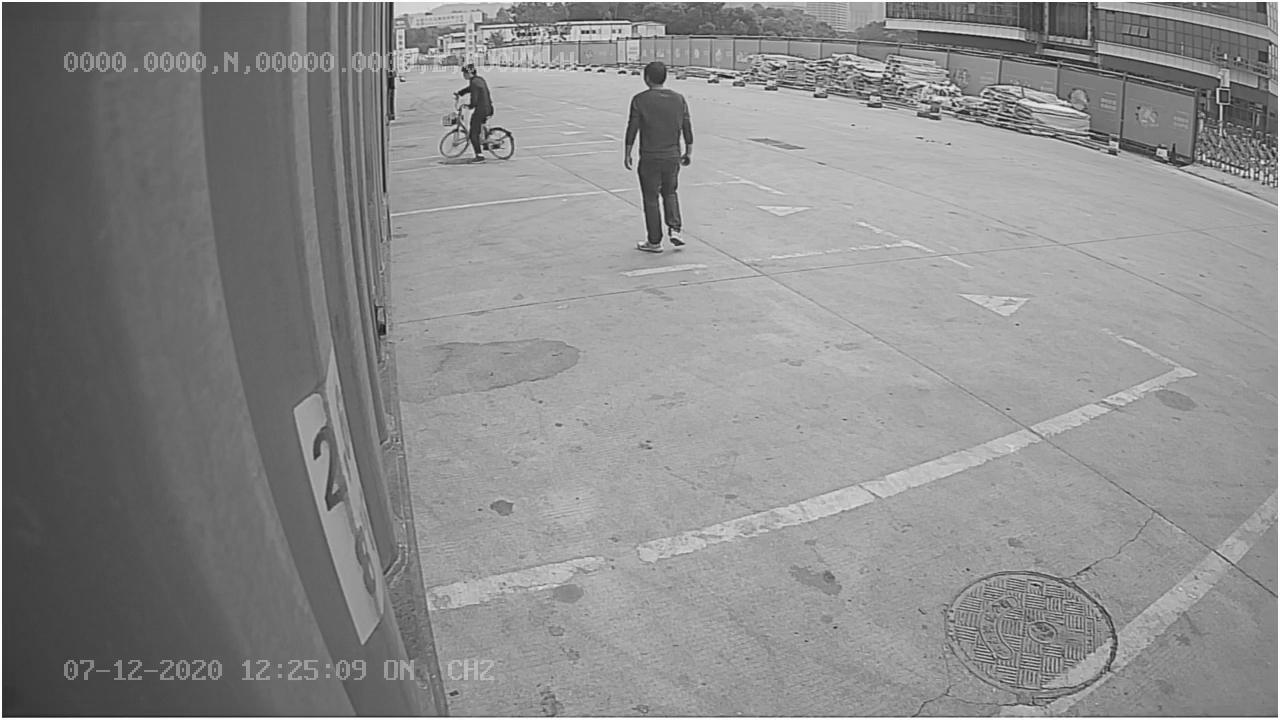person: (616, 56, 699, 256)
